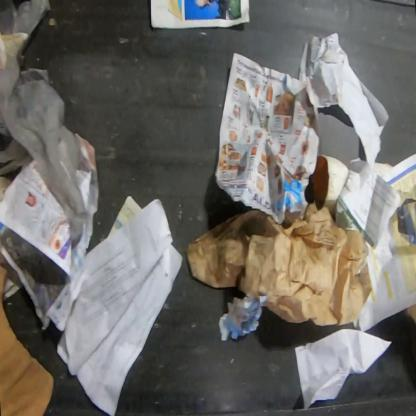cardboard: (0, 265, 55, 416), (311, 155, 351, 220), (403, 304, 415, 324)
soft_plastic: (0, 0, 87, 250)
